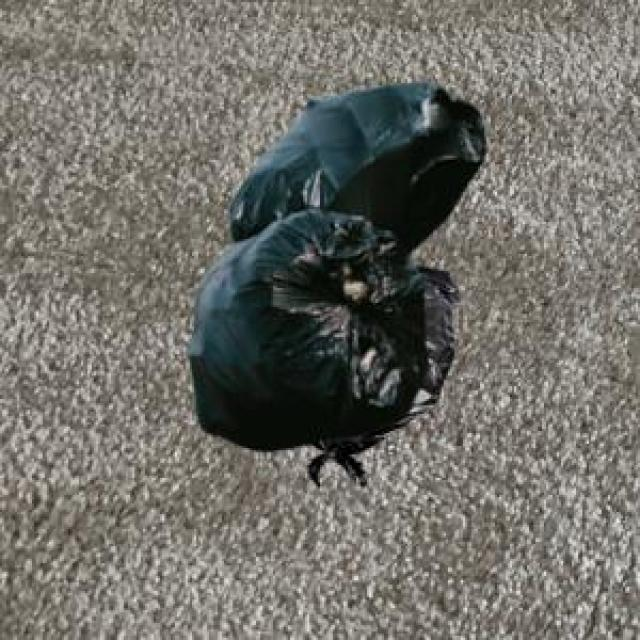waste: (189, 84, 486, 482)
